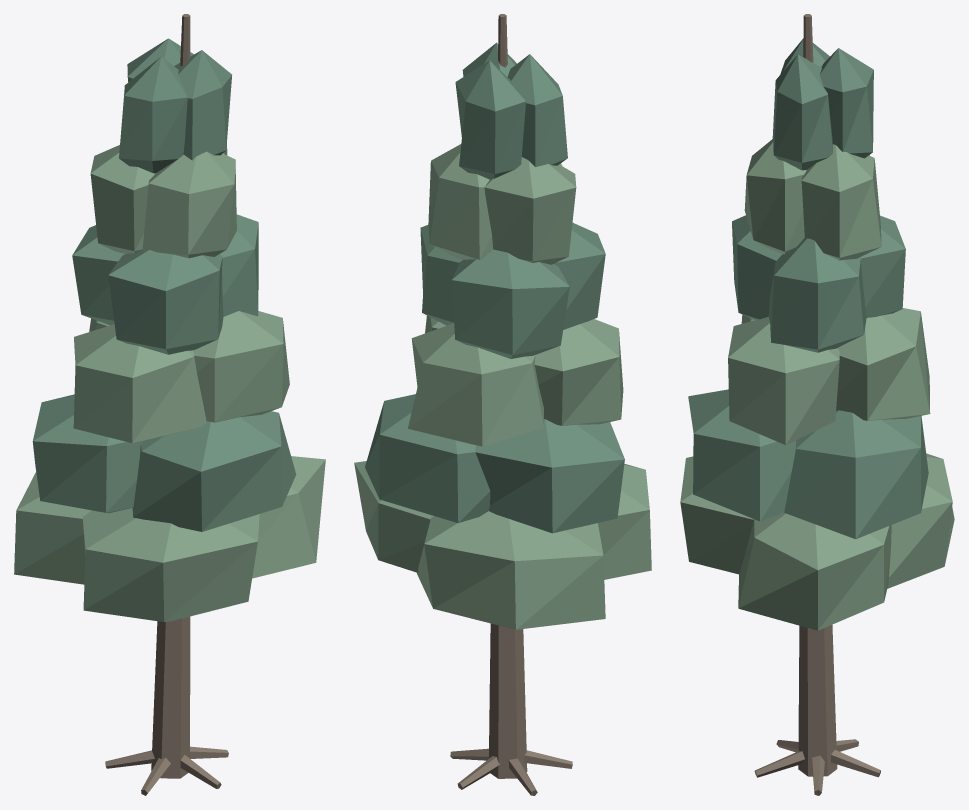
3 views of the same model, side by side, from view 1: azimuth 30°, elevation 25°; view 2: azimuth 150°, elevation 25°; view 3: azimuth 270°, elevation 25° (orthographic).
Bounding box in the file's own units: 8.07 × 20.61 × 6.75.
